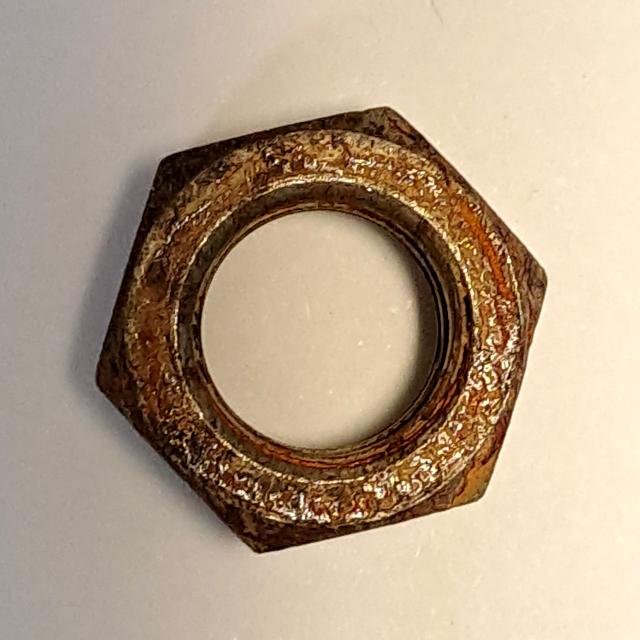Rust: (77, 89, 560, 564)
